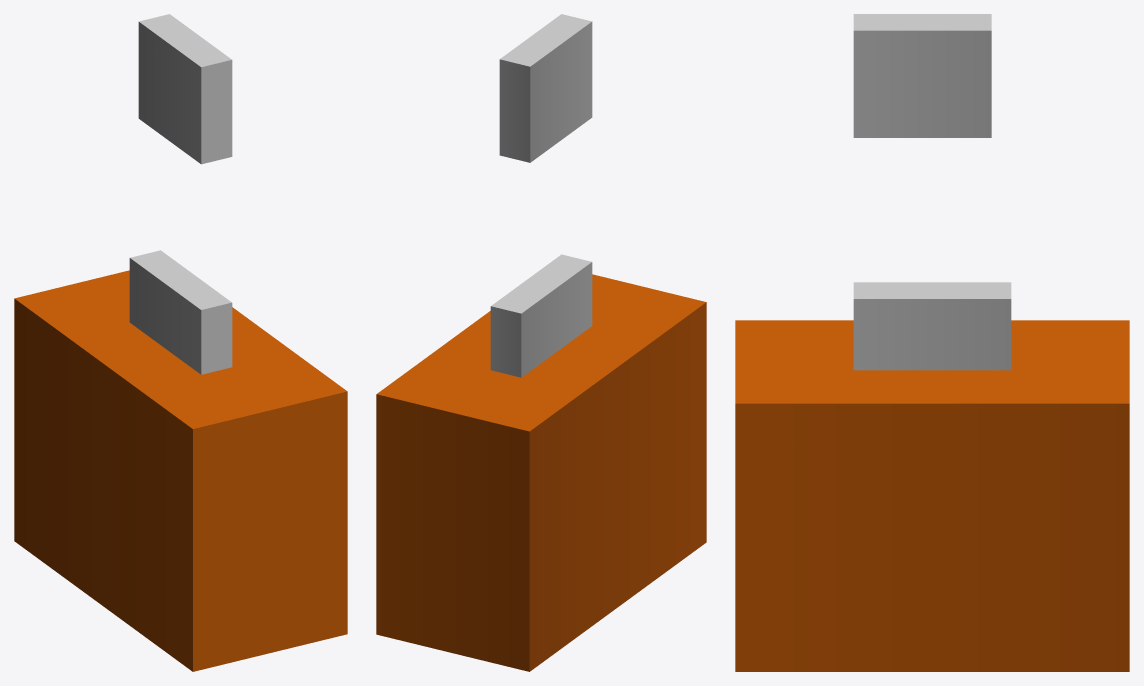
The model's file is googelon-tail-simple.glb.
3 renders of one model, left to right at view 1: azimuth 30°, elevation 25°; view 2: azimuth 150°, elevation 25°; view 3: azimuth 270°, elevation 25°, orthographic. The views are drawn at different scales.
Parts seen in each view (by area): view 1: mesh0; view 2: mesh0; view 3: mesh0.
Boxes of the visible parts, x1,y1,x2,y2 form: mesh0: (14,14,347,671); mesh0: (376,14,706,671); mesh0: (735,14,1129,671).
Size of the model in its own units: 0.2 by 0.68 by 0.4.
